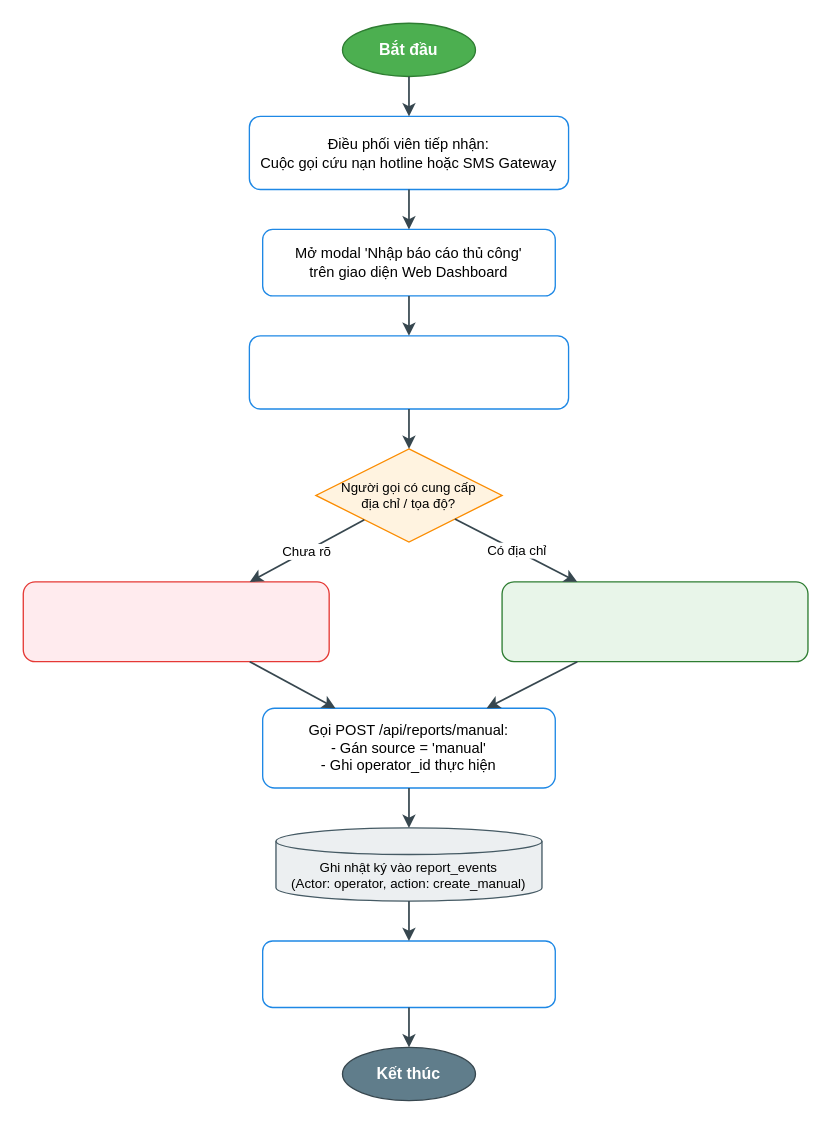
Some shapes in this 831 by 1124 pixel diagram are drawn without their labels. The centre of each missing label's shape, as x and y in pixels:
CHƯA RÕ VỊ TRÍ: Đặt lat/lng = null Đưa vào Hàng xem xét (Review Queue): [175,621]
Cập nhật dữ liệu hoạt động -> Kích hoạt phân cụm tự động: [408,973]
Nhập thông tin người gọi: Tên, SĐT, mô tả, số người kẹt, nhóm yếu thế: [408,371]
XÁC ĐỊNH ĐƯỢC VỊ TRÍ: Chấm vị trí trên bản đồ Leaflet hoặc nhập địa chỉ cụ thể: [654,621]
